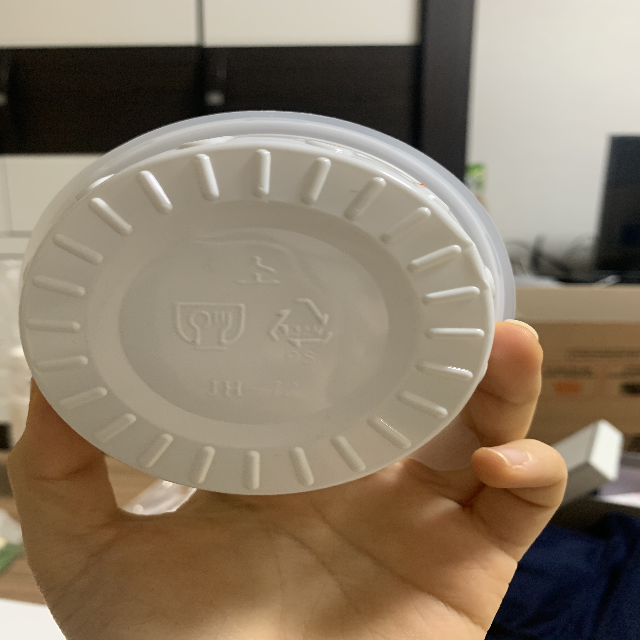ps: (268, 292, 333, 366)
